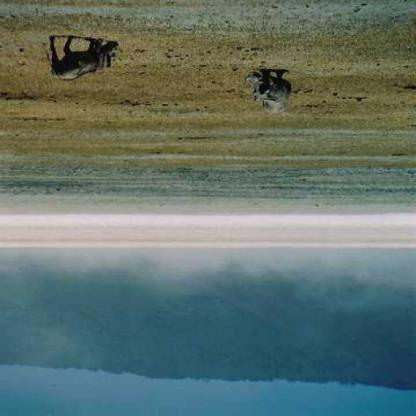boar: (226, 64, 303, 141), (49, 27, 136, 88)
